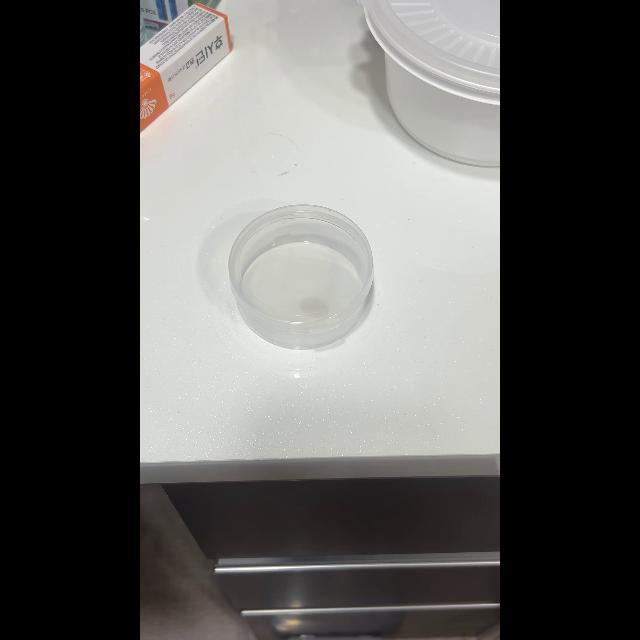clean: (224, 198, 380, 354)
